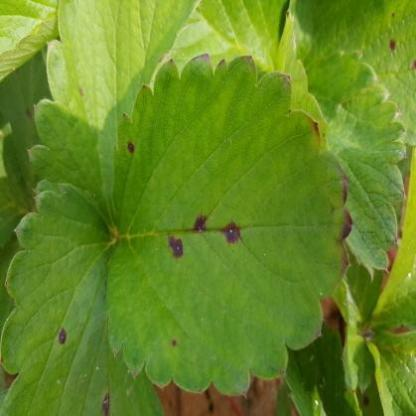Strawberry_Leaf_Spot: (106, 52, 354, 400), (28, 0, 204, 236), (0, 182, 166, 416), (296, 0, 416, 146), (0, 46, 52, 211), (356, 376, 384, 416)
